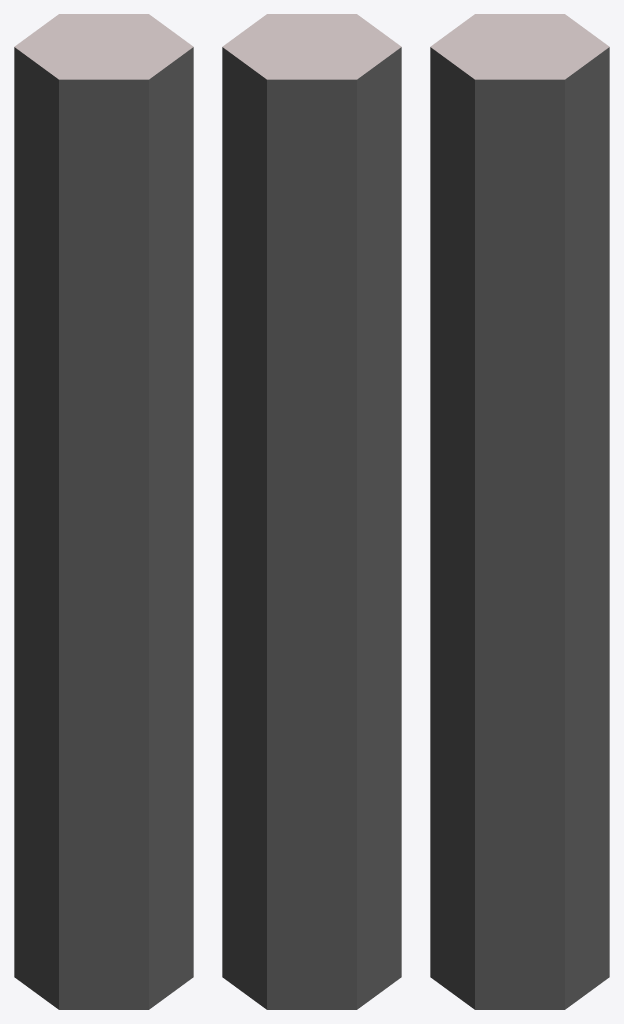
File: knuckle_pin.obj
3 renders of one model, left to right at view 1: azimuth 30°, elevation 25°; view 2: azimuth 150°, elevation 25°; view 3: azimuth 270°, elevation 25°, orthographic.
Visible parts, largest first — view 1: 钩轴_4f3d6387-6123-04b7-d576-24e27e8fabd2; view 2: 钩轴_4f3d6387-6123-04b7-d576-24e27e8fabd2; view 3: 钩轴_4f3d6387-6123-04b7-d576-24e27e8fabd2.
Boxes of the visible parts, x1,y1,x2,y2 form: 钩轴_4f3d6387-6123-04b7-d576-24e27e8fabd2: [14, 14, 193, 1009]; 钩轴_4f3d6387-6123-04b7-d576-24e27e8fabd2: [222, 14, 401, 1009]; 钩轴_4f3d6387-6123-04b7-d576-24e27e8fabd2: [430, 14, 609, 1009].
Bounding box in the file's own units: 0.0358 × 0.2362 × 0.0413.
